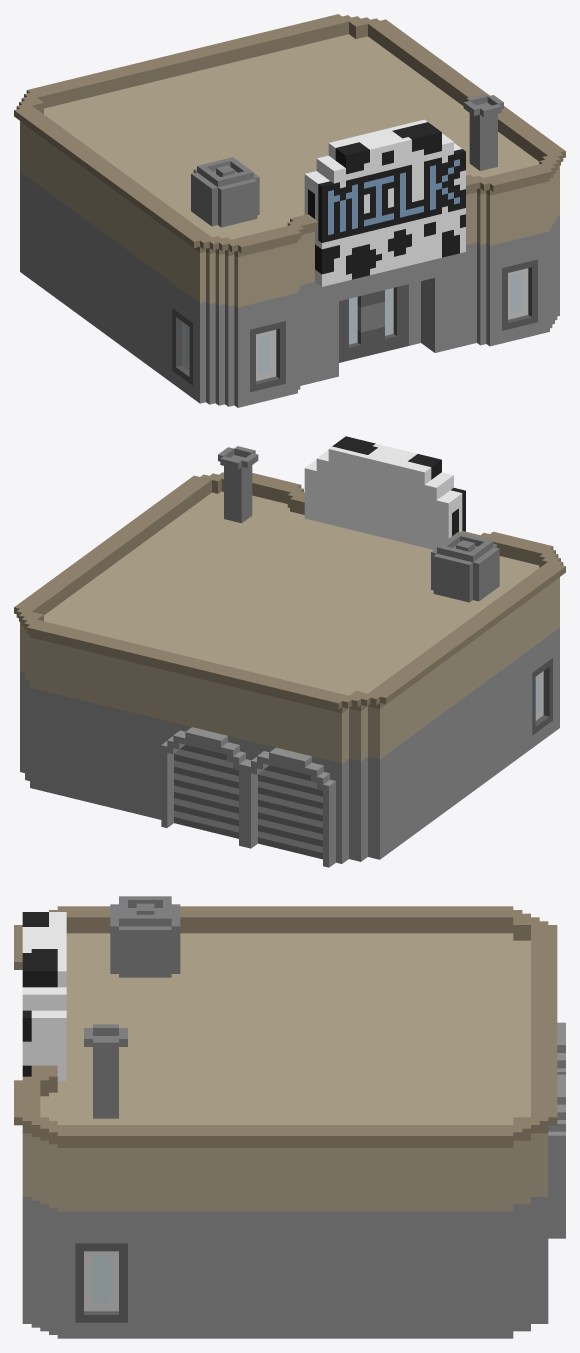
The model's file is milk2.obj.
3 renders of one model, top to bottom at view 1: azimuth 30°, elevation 25°; view 2: azimuth 150°, elevation 25°; view 3: azimuth 270°, elevation 25°, orthographic. The views are drawn at different scales.
Visible parts, largest first — view 1: milk2; view 2: milk2; view 3: milk2.
Part boxes in pixels (box(x1,y1,x2,y2)): milk2: box(14, 14, 565, 407); milk2: box(14, 436, 565, 867); milk2: box(14, 896, 565, 1338).
Bounding box in the file's own units: 62 × 36 × 63.
Materials: 1 (1 with a texture image).
